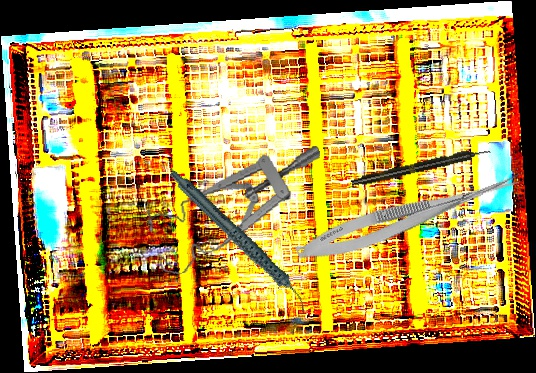Handpiece: (169, 148, 310, 334), (350, 145, 492, 189)
Micro Scissor: (292, 158, 527, 271)
Speculum: (139, 145, 336, 278)
